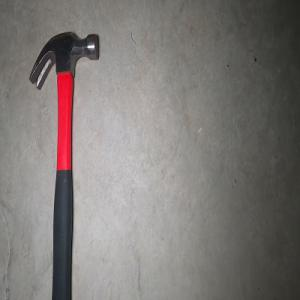Hammer: (27, 30, 99, 300)
